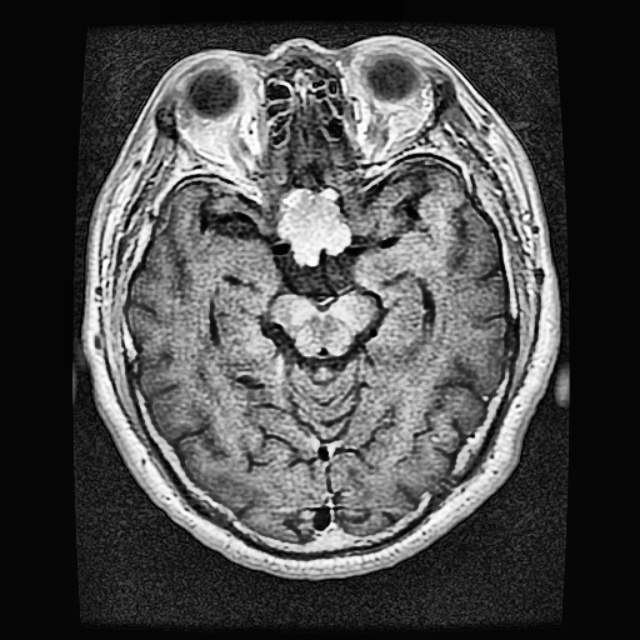Pituitary: (278, 184, 352, 265)
